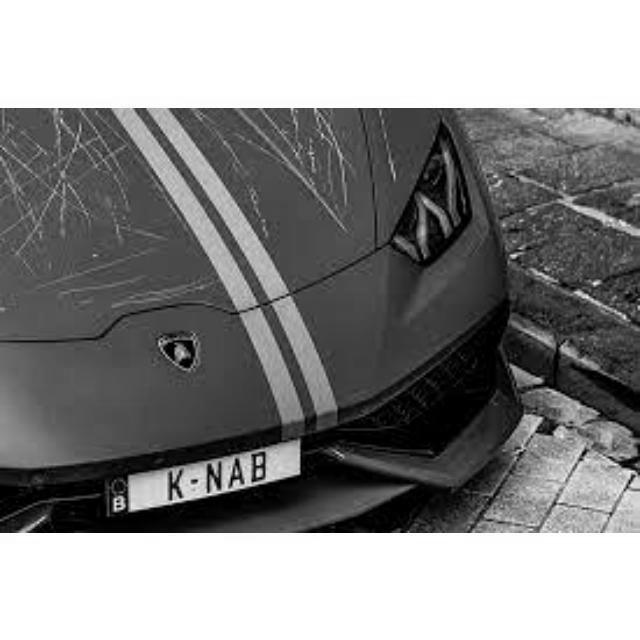bonnet-dent: (1, 109, 508, 423)
